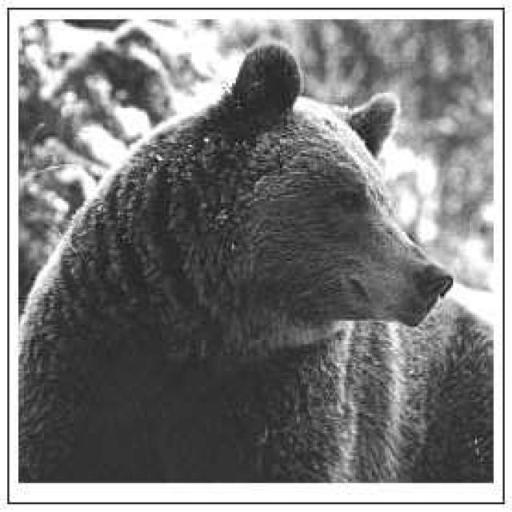Bear: (17, 40, 457, 482)
